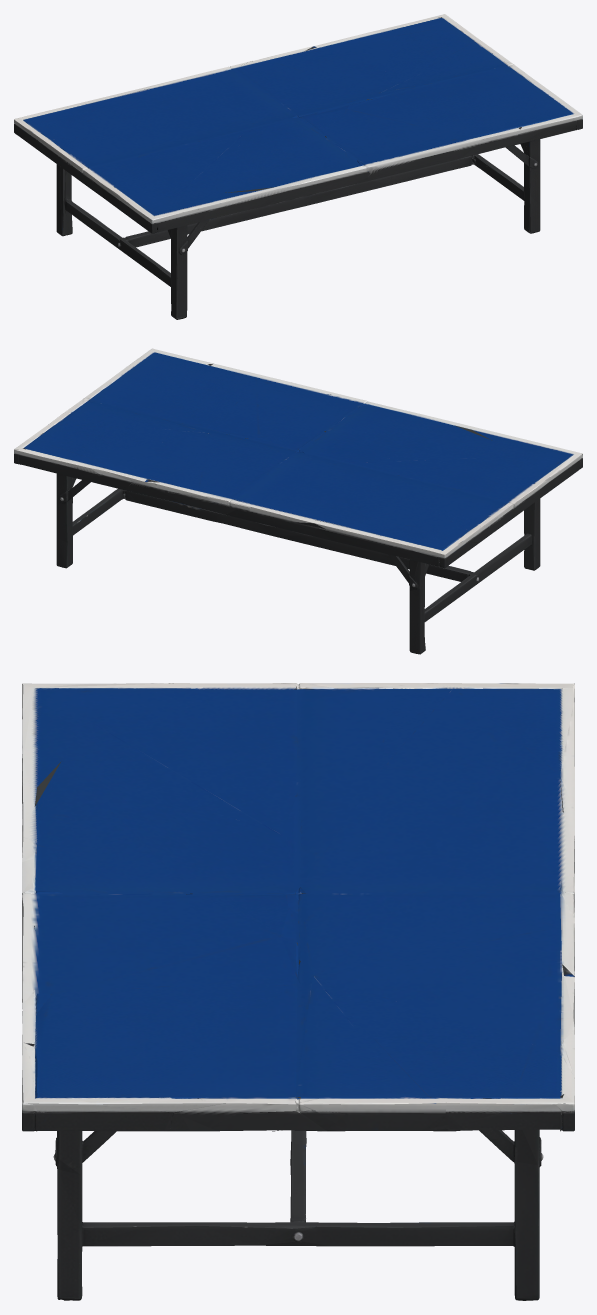
Rendered from table-quality.glb.
The picture shows the model from 3 angles, top to bottom: view 1: azimuth 30°, elevation 25°; view 2: azimuth 150°, elevation 25°; view 3: azimuth 270°, elevation 25°; orthographic projection. The views are drawn at different scales.
Visible parts, largest first — view 1: output_unwrapped; view 2: output_unwrapped; view 3: output_unwrapped.
Part boxes in pixels (x1,y1,x2,y2): output_unwrapped: (14, 14, 582, 319); output_unwrapped: (14, 348, 582, 654); output_unwrapped: (22, 683, 574, 1300).
Size of the model in its own units: 1.9 by 0.4861 by 1.05.
Materials: 1 (1 with a texture image).
